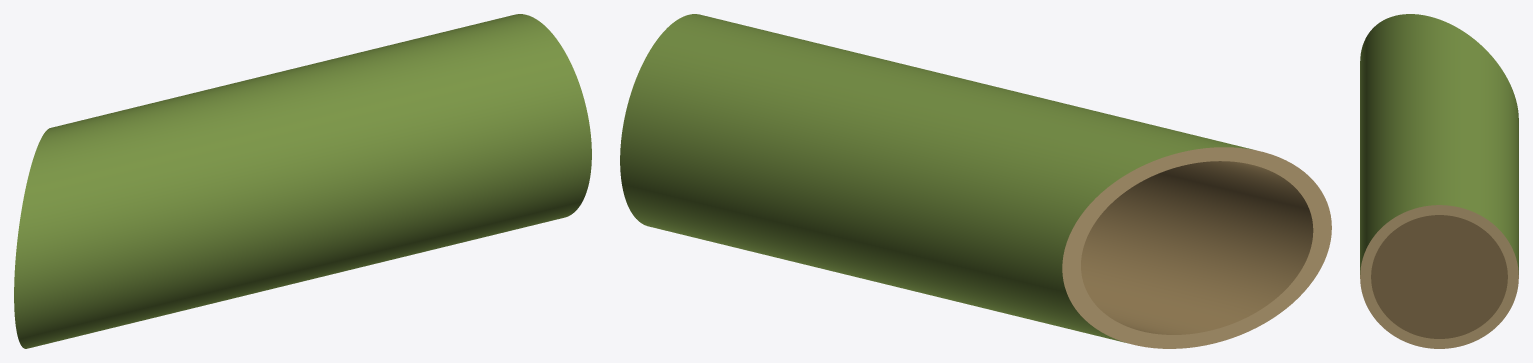
The model's file is bamboo.glb.
The picture shows the model from 3 angles, left to right: view 1: azimuth 30°, elevation 25°; view 2: azimuth 150°, elevation 25°; view 3: azimuth 270°, elevation 25°; orthographic projection. The views are drawn at different scales.
Visible parts, largest first — view 1: Bamboo; view 2: Bamboo; view 3: Bamboo.
Part boxes in pixels (x1,y1,x2,y2): Bamboo: (14,14,591,348); Bamboo: (620,14,1331,348); Bamboo: (1360,14,1518,348).
Size of the model in its own units: 29.99 by 9.4 by 9.4.
